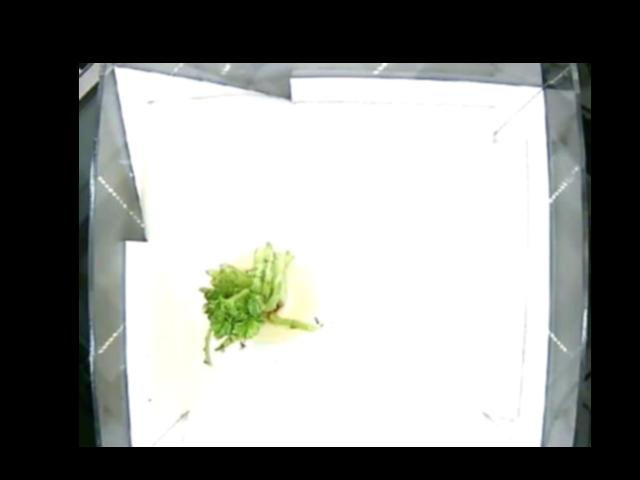Mooli: (199, 238, 322, 348)
